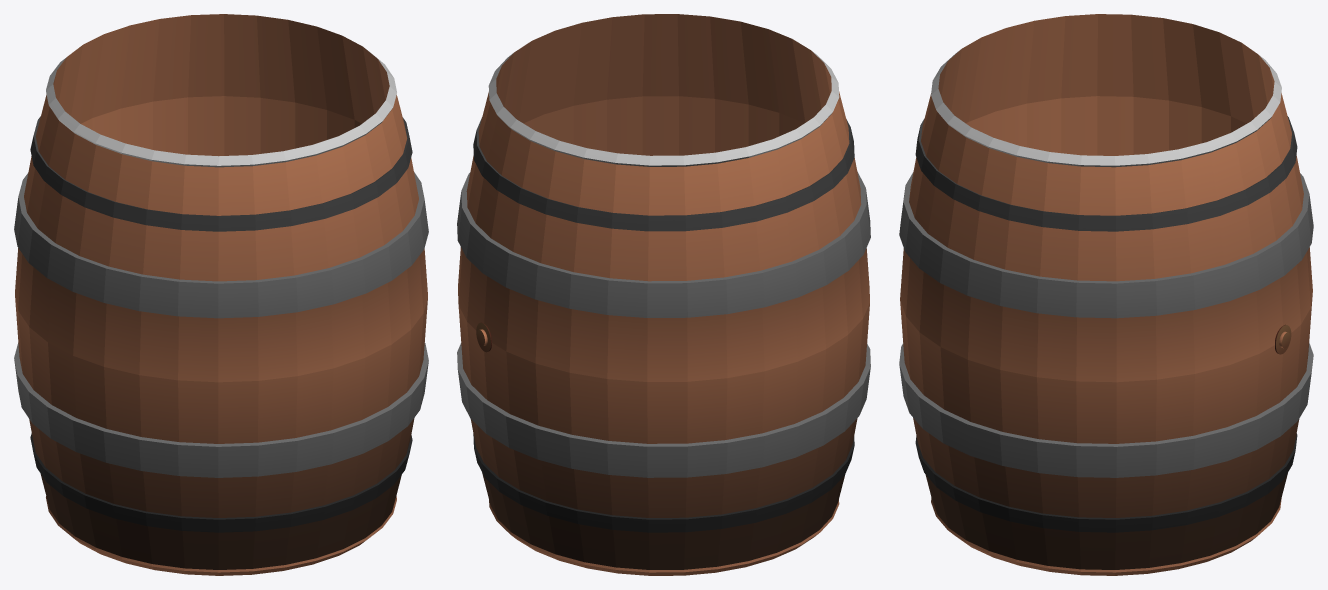
File: Large Med Open Barrel.fbx
The picture shows the model from 3 angles, left to right: view 1: azimuth 30°, elevation 25°; view 2: azimuth 150°, elevation 25°; view 3: azimuth 270°, elevation 25°; orthographic projection.
Visible parts, largest first — view 1: Large Med Open Barrel; view 2: Large Med Open Barrel; view 3: Large Med Open Barrel.
Boxes of the visible parts, <box> form: Large Med Open Barrel: <box>14,14,428,575</box>; Large Med Open Barrel: <box>457,14,870,575</box>; Large Med Open Barrel: <box>899,14,1313,575</box>.
Size of the model in its own units: 423 by 378 by 378.
Materials: 1 (1 with a texture image).
